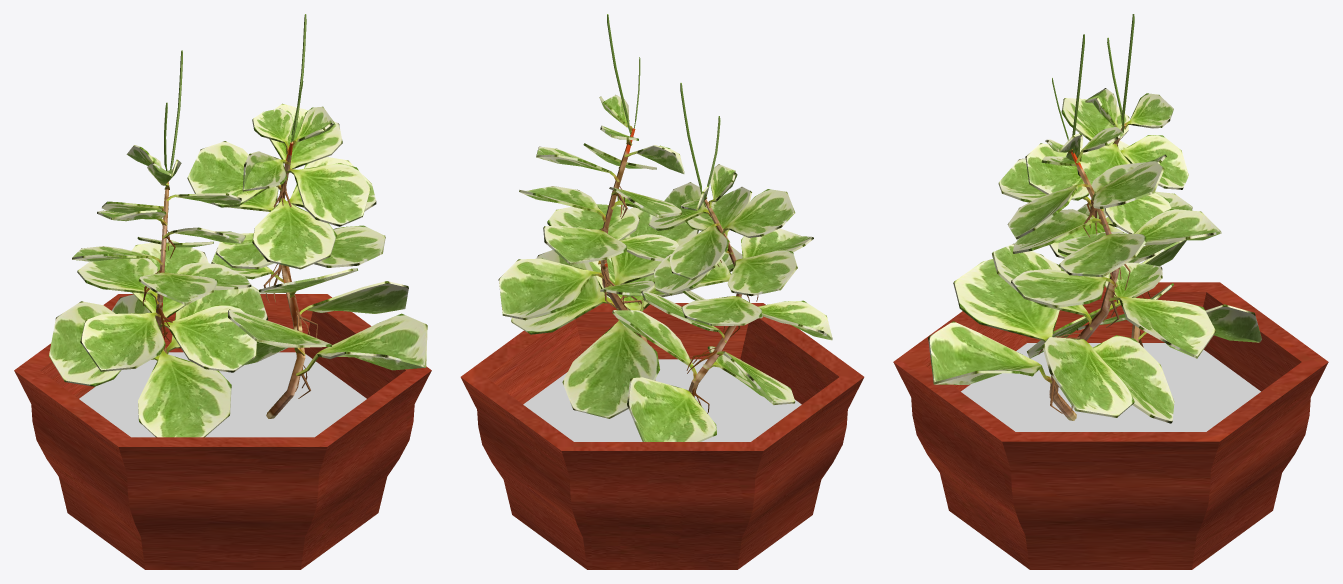
Rendered from Baby rubberplant.fbx.
The picture shows the model from 3 angles, left to right: view 1: azimuth 30°, elevation 25°; view 2: azimuth 150°, elevation 25°; view 3: azimuth 270°, elevation 25°; orthographic projection. The views are drawn at different scales.
Visible parts, largest first — view 1: Model; view 2: Model; view 3: Model.
Part boxes in pixels (x1,y1,x2,y2): Model: [14, 14, 431, 569]; Model: [460, 14, 864, 569]; Model: [893, 14, 1328, 569].
Size of the model in its own units: 18 by 26.22 by 20.21.
6 materials, 5 textured.
